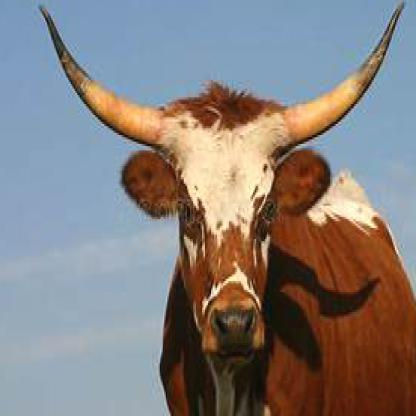cow: (37, 2, 414, 414)
